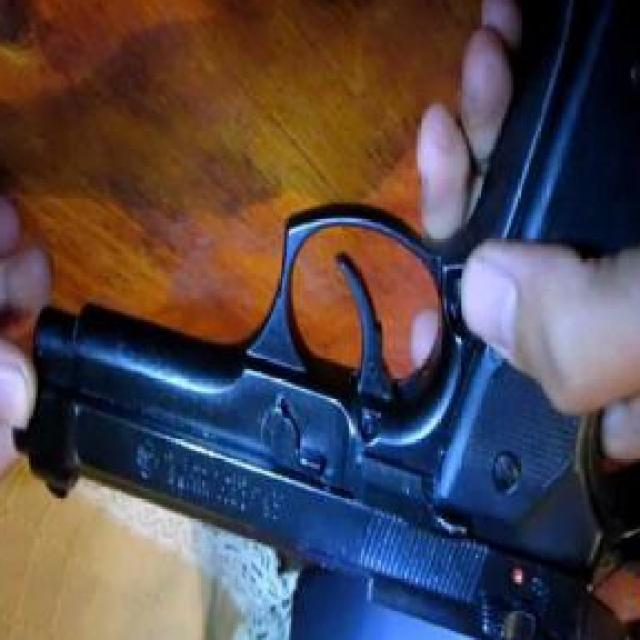pistol: (20, 4, 640, 640)
